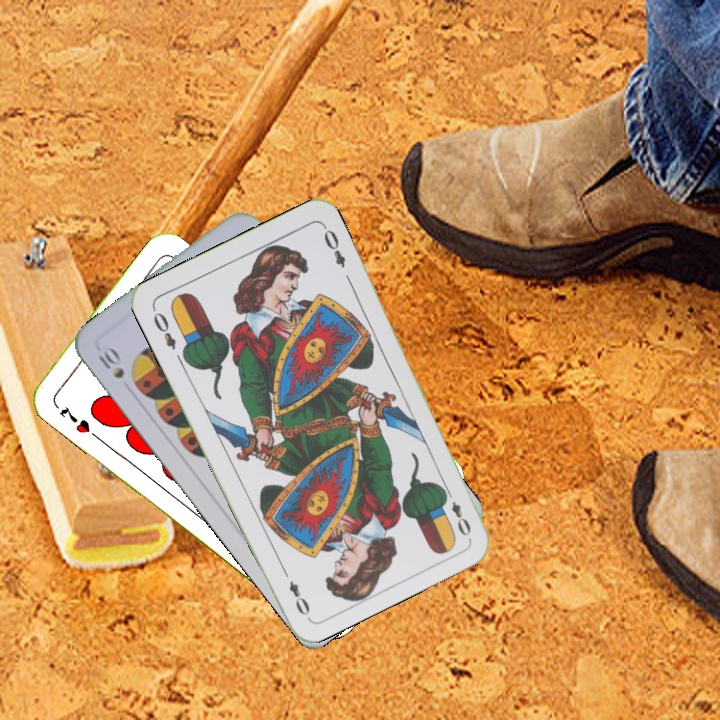EO: (439, 483, 474, 539), (149, 308, 179, 353)
H7: (56, 402, 93, 436)
S10: (92, 342, 127, 382)
